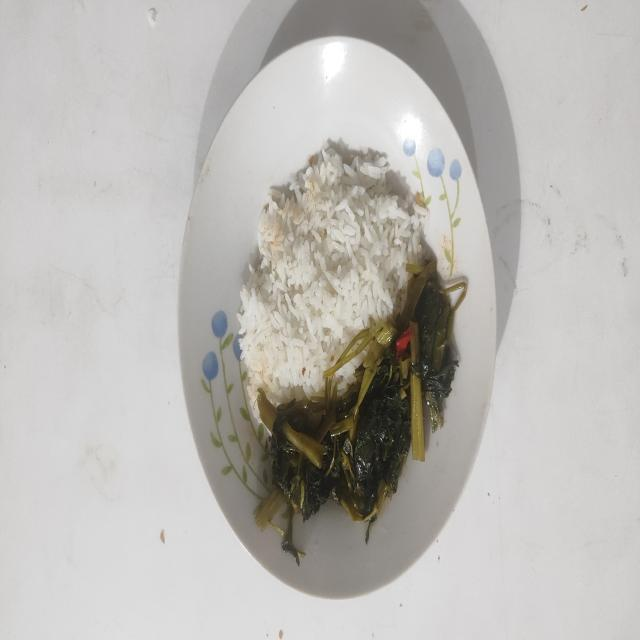nasi_putih: (238, 140, 427, 420)
tumis_kangkung: (256, 261, 467, 565)
